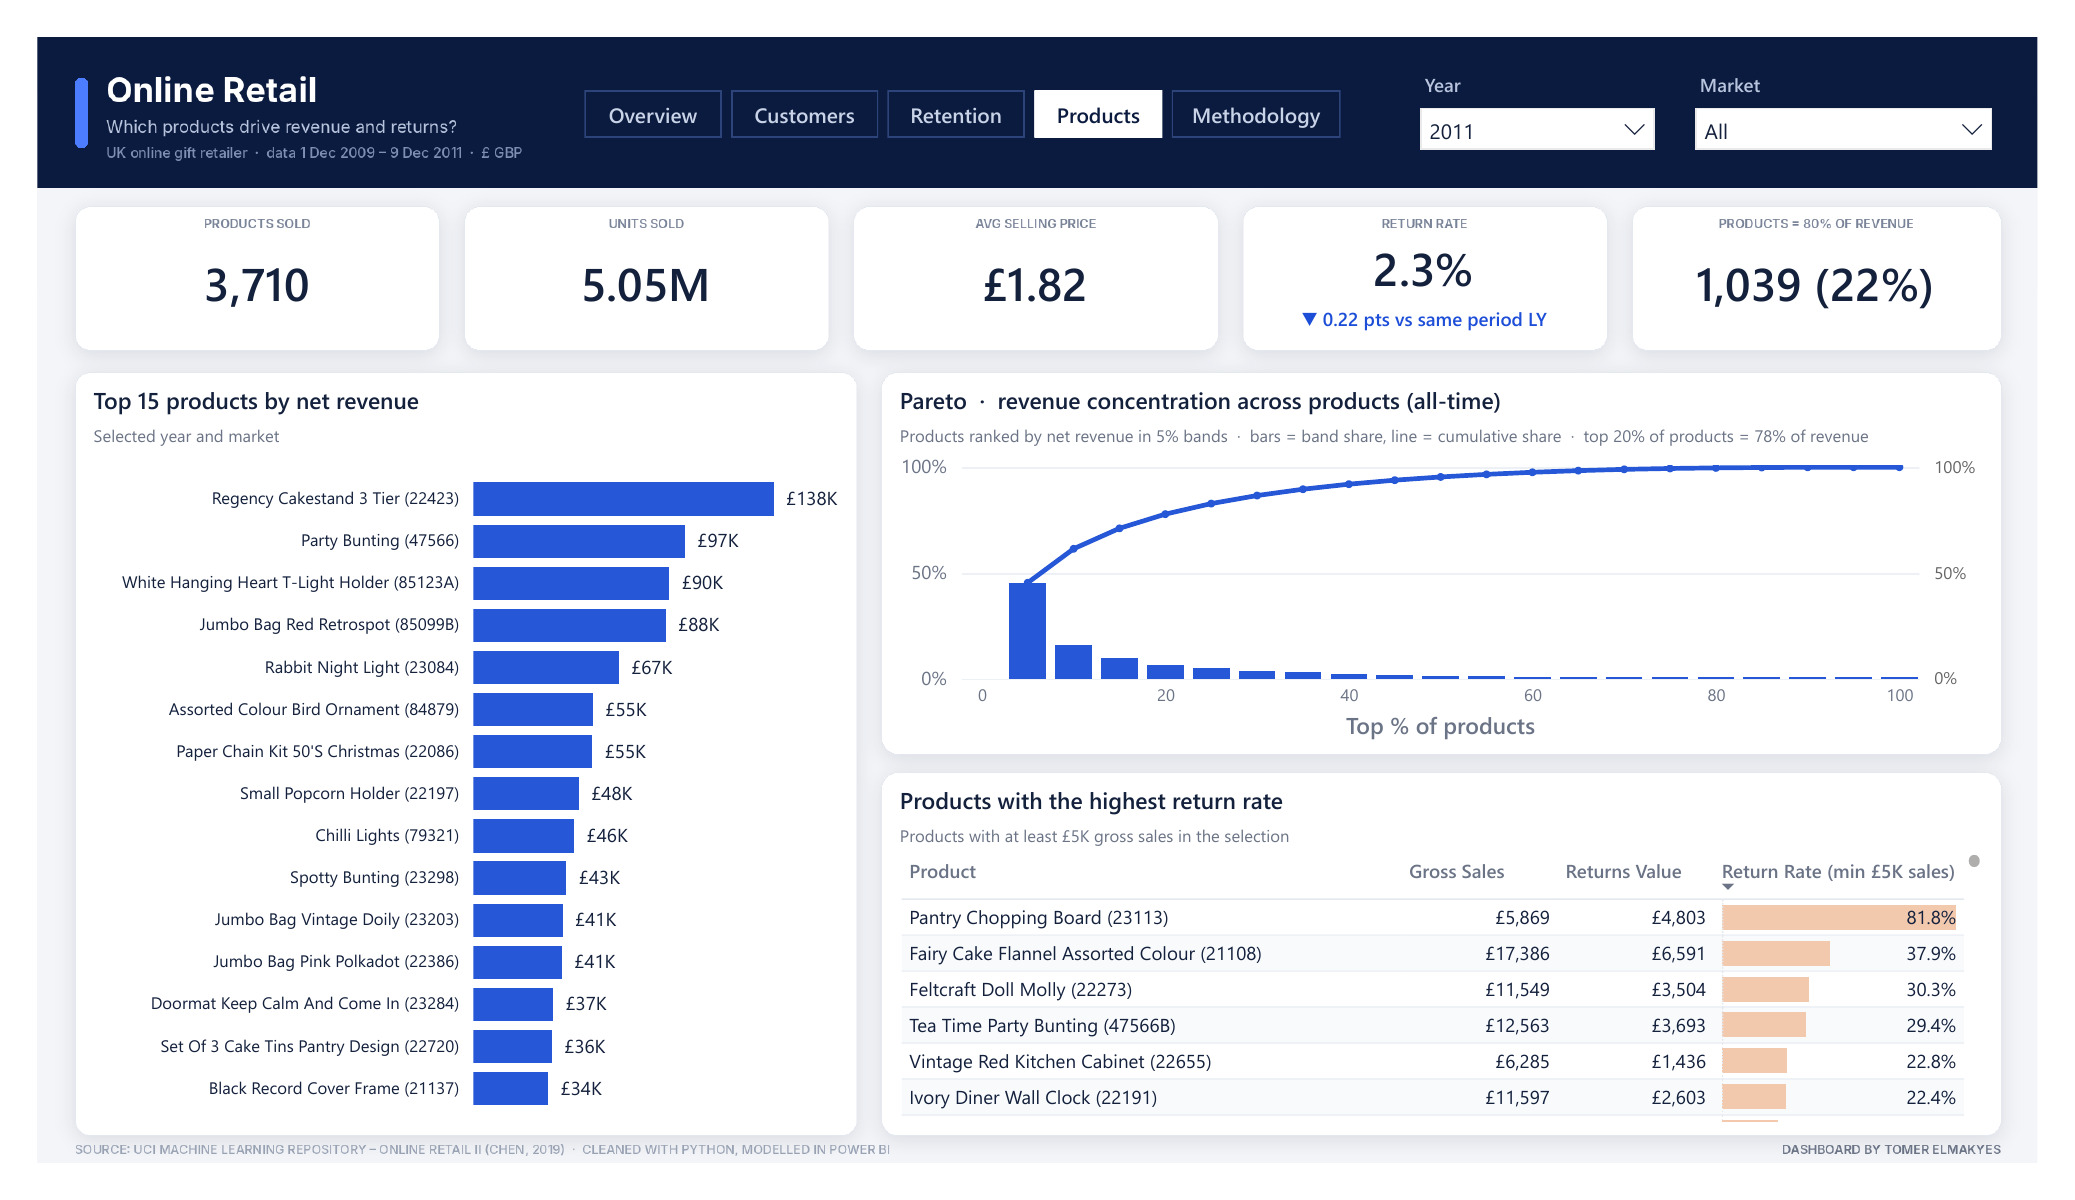

What the dashboard file says about the page in this screenshot:
{"tool":"powerbi","page":{"name":"Products","canvas":[1280,720],"ordinal":3},"visuals":[{"type":"actionButton","box":[350,34,88,30],"z":4900},{"type":"actionButton","box":[444,34,94,30],"z":5000},{"type":"actionButton","box":[544,34,88,30],"z":5100},{"type":"actionButton","box":[638,34,82,30],"z":5200},{"type":"actionButton","box":[726,34,108,30],"z":5300},{"type":"slicer","fields":{"Values":["Calendar.Year"]},"box":[880,22,160,62],"z":5400},{"type":"slicer","fields":{"Values":["Geography.Market"]},"box":[1056,22,200,62],"z":5500},{"type":"card","fields":{"Values":["_Measures.Products Sold"]},"box":[24,132,233,52],"z":5600},{"type":"card","fields":{"Values":["_Measures.Units Sold"]},"box":[273,132,233,52],"z":5700},{"type":"card","fields":{"Values":["_Measures.Avg Selling Price"]},"box":[522,132,233,52],"z":5800},{"type":"card","fields":{"Values":["_Measures.Return Rate"]},"box":[771,128,233,42],"z":5900},{"type":"card","fields":{"Values":["_Measures.Return Rate vs PY"]},"box":[771,172,233,22],"z":6000},{"type":"card","fields":{"Values":["_Measures.Products driving 80% of revenue"]},"box":[1020,132,236,52],"z":6100},{"type":"clusteredBarChart","title":"Top 15 products by net revenue","fields":{"Category":["Product.Product"],"Y":["_Measures.Top 15 Products"]},"box":[24,214,500,488],"z":6200},{"type":"lineClusteredColumnComboChart","title":"Pareto  ·  revenue concentration across products (all-time)","fields":{"Category":["Product.ProductPercentile"],"Y":["_Measures.Share of Revenue (all-time)"],"Y2":["_Measures.Cumulative Share (all-time)"]},"box":[540,214,716,244],"z":6300},{"type":"tableEx","title":"Products with the highest return rate","fields":{"Values":["Product.Product","_Measures.Gross Sales","_Measures.Returns Value","_Measures.Return Rate (min £5K sales)"]},"box":[540,470,716,232],"z":6400}]}

Visuals, with their boxes on the page's 1280x720 design canvas (x1, y1, x2, y2). These are canvas units, not pixel positions in the 2075x1200 screenshot, which may show the page scaled, cropped or inside an application window:
actionButton: {"x1": 350, "y1": 34, "x2": 438, "y2": 64}
actionButton: {"x1": 444, "y1": 34, "x2": 538, "y2": 64}
actionButton: {"x1": 544, "y1": 34, "x2": 632, "y2": 64}
actionButton: {"x1": 638, "y1": 34, "x2": 720, "y2": 64}
actionButton: {"x1": 726, "y1": 34, "x2": 834, "y2": 64}
slicer - Calendar.Year: {"x1": 880, "y1": 22, "x2": 1040, "y2": 84}
slicer - Geography.Market: {"x1": 1056, "y1": 22, "x2": 1256, "y2": 84}
card - _Measures.Products Sold: {"x1": 24, "y1": 132, "x2": 257, "y2": 184}
card - _Measures.Units Sold: {"x1": 273, "y1": 132, "x2": 506, "y2": 184}
card - _Measures.Avg Selling Price: {"x1": 522, "y1": 132, "x2": 755, "y2": 184}
card - _Measures.Return Rate: {"x1": 771, "y1": 128, "x2": 1004, "y2": 170}
card - _Measures.Return Rate vs PY: {"x1": 771, "y1": 172, "x2": 1004, "y2": 194}
card - _Measures.Products driving 80% of revenue: {"x1": 1020, "y1": 132, "x2": 1256, "y2": 184}
"Top 15 products by net revenue" clusteredBarChart: {"x1": 24, "y1": 214, "x2": 524, "y2": 702}
"Pareto  ·  revenue concentration across products (all-time)" lineClusteredColumnComboChart: {"x1": 540, "y1": 214, "x2": 1256, "y2": 458}
"Products with the highest return rate" tableEx: {"x1": 540, "y1": 470, "x2": 1256, "y2": 702}
